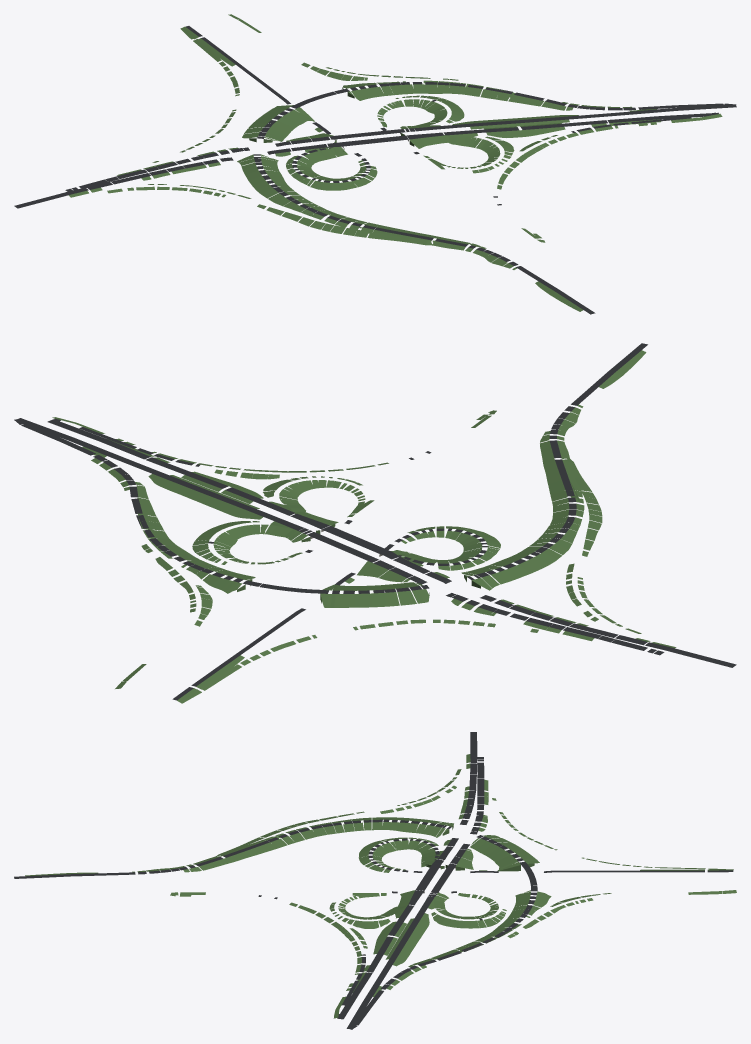
Rendered from br_h52_sherwood_park_1_lod1.gltf.
3 renders of one model, top to bottom at view 1: azimuth 30°, elevation 25°; view 2: azimuth 150°, elevation 25°; view 3: azimuth 270°, elevation 25°, orthographic. The views are drawn at different scales.
Parts seen in each view (by area): view 1: br_h52_sherwood_park_1_lod1; view 2: br_h52_sherwood_park_1_lod1; view 3: br_h52_sherwood_park_1_lod1.
Part boxes in pixels (box(x1,y1,x2,y2)): br_h52_sherwood_park_1_lod1: box(14, 14, 736, 314); br_h52_sherwood_park_1_lod1: box(14, 343, 736, 703); br_h52_sherwood_park_1_lod1: box(14, 732, 736, 1029).
Size of the model in its own units: 1458 by 30.45 by 1533.
